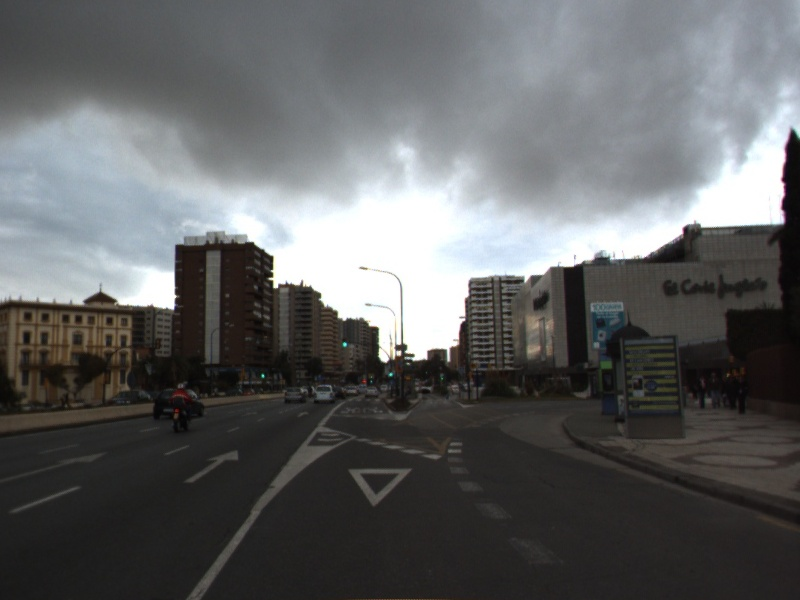STRAIGHT: (1, 448, 112, 484), (182, 447, 242, 485)
